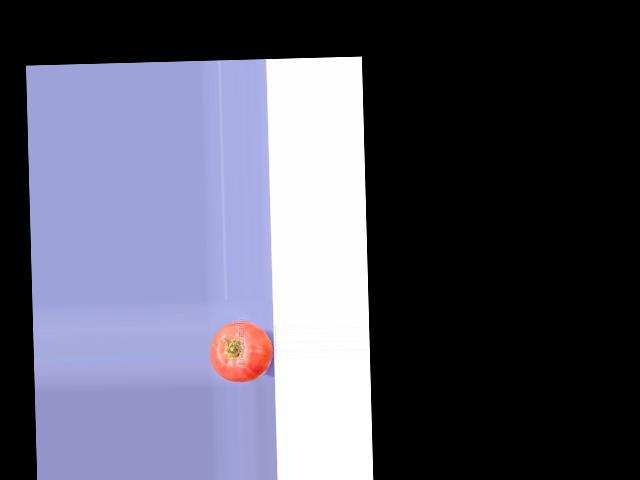tomato: (209, 320, 272, 383)
